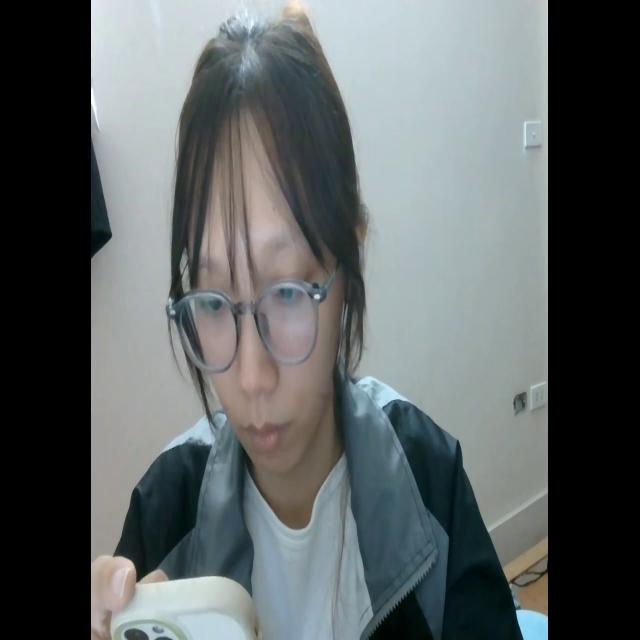phone: (106, 570, 261, 640)
student: (91, 10, 522, 640)
